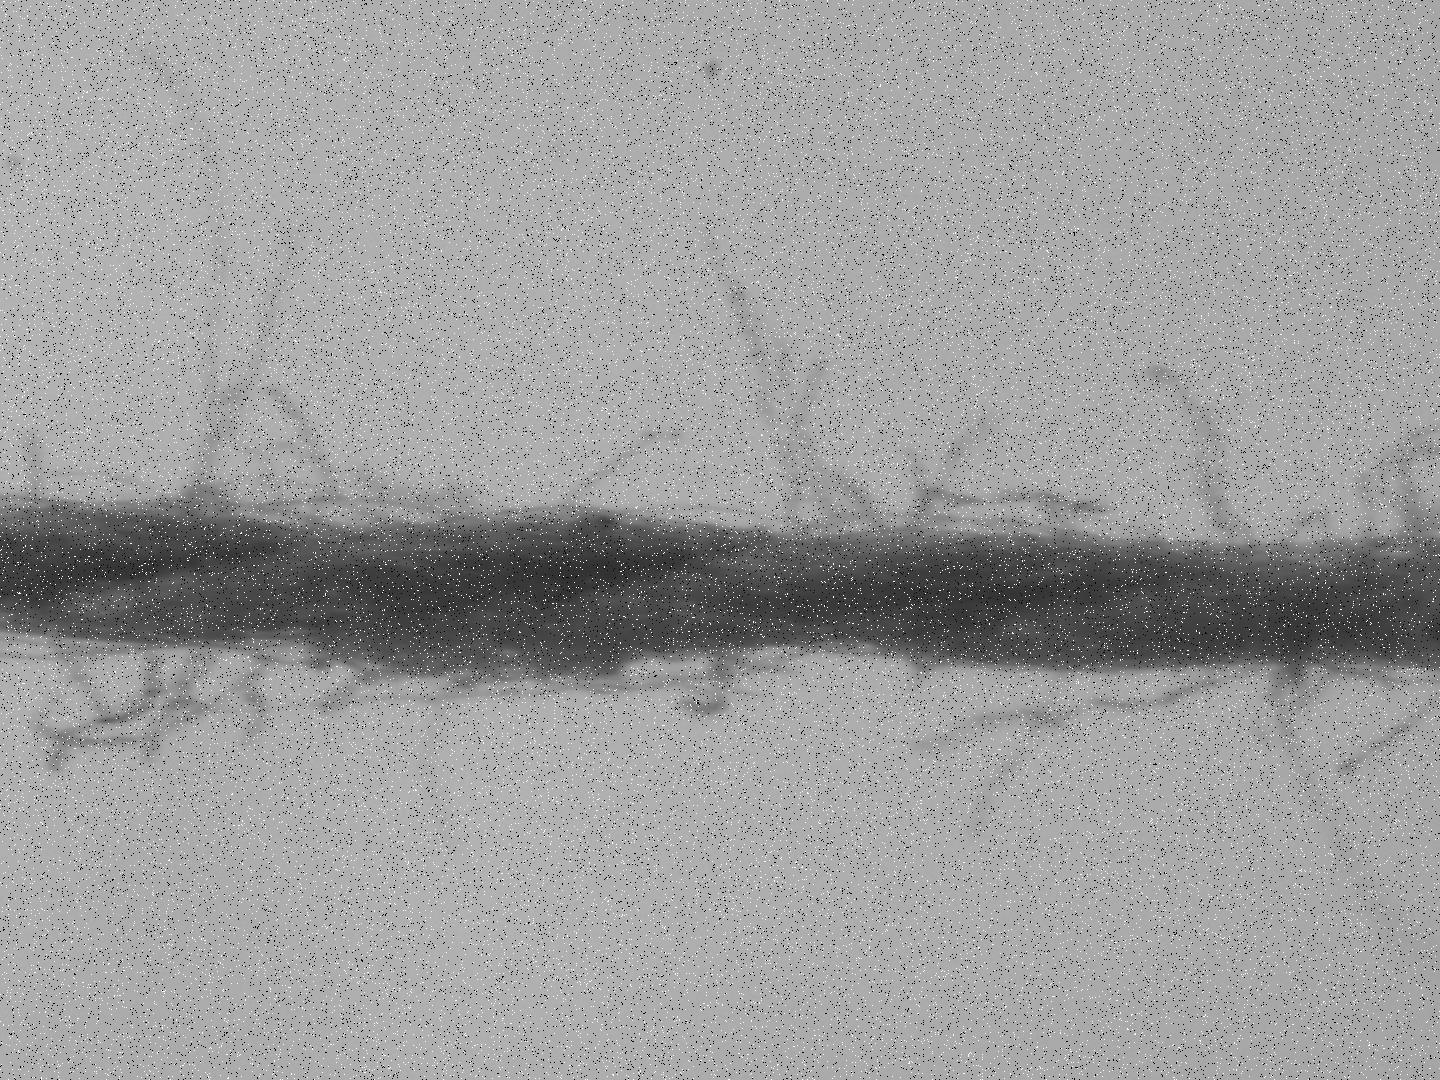protruding_fiber: (907, 664, 1269, 758), (551, 422, 701, 520)
